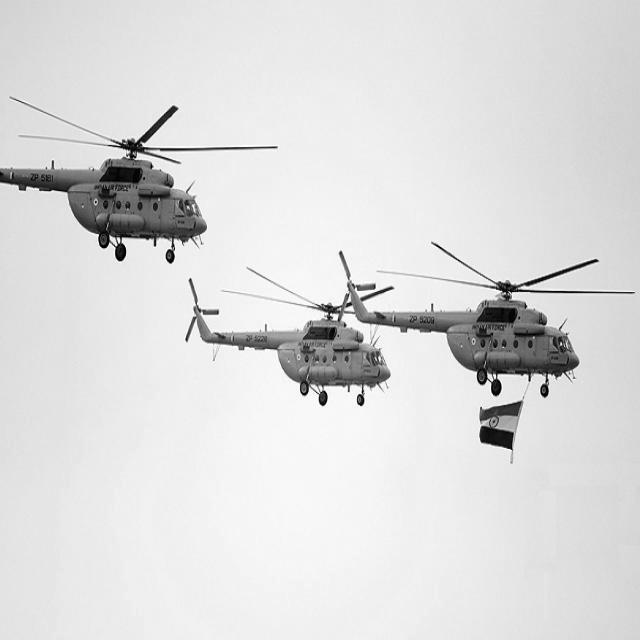helikopter: (13, 106, 236, 267), (181, 268, 396, 408), (396, 268, 630, 392)
